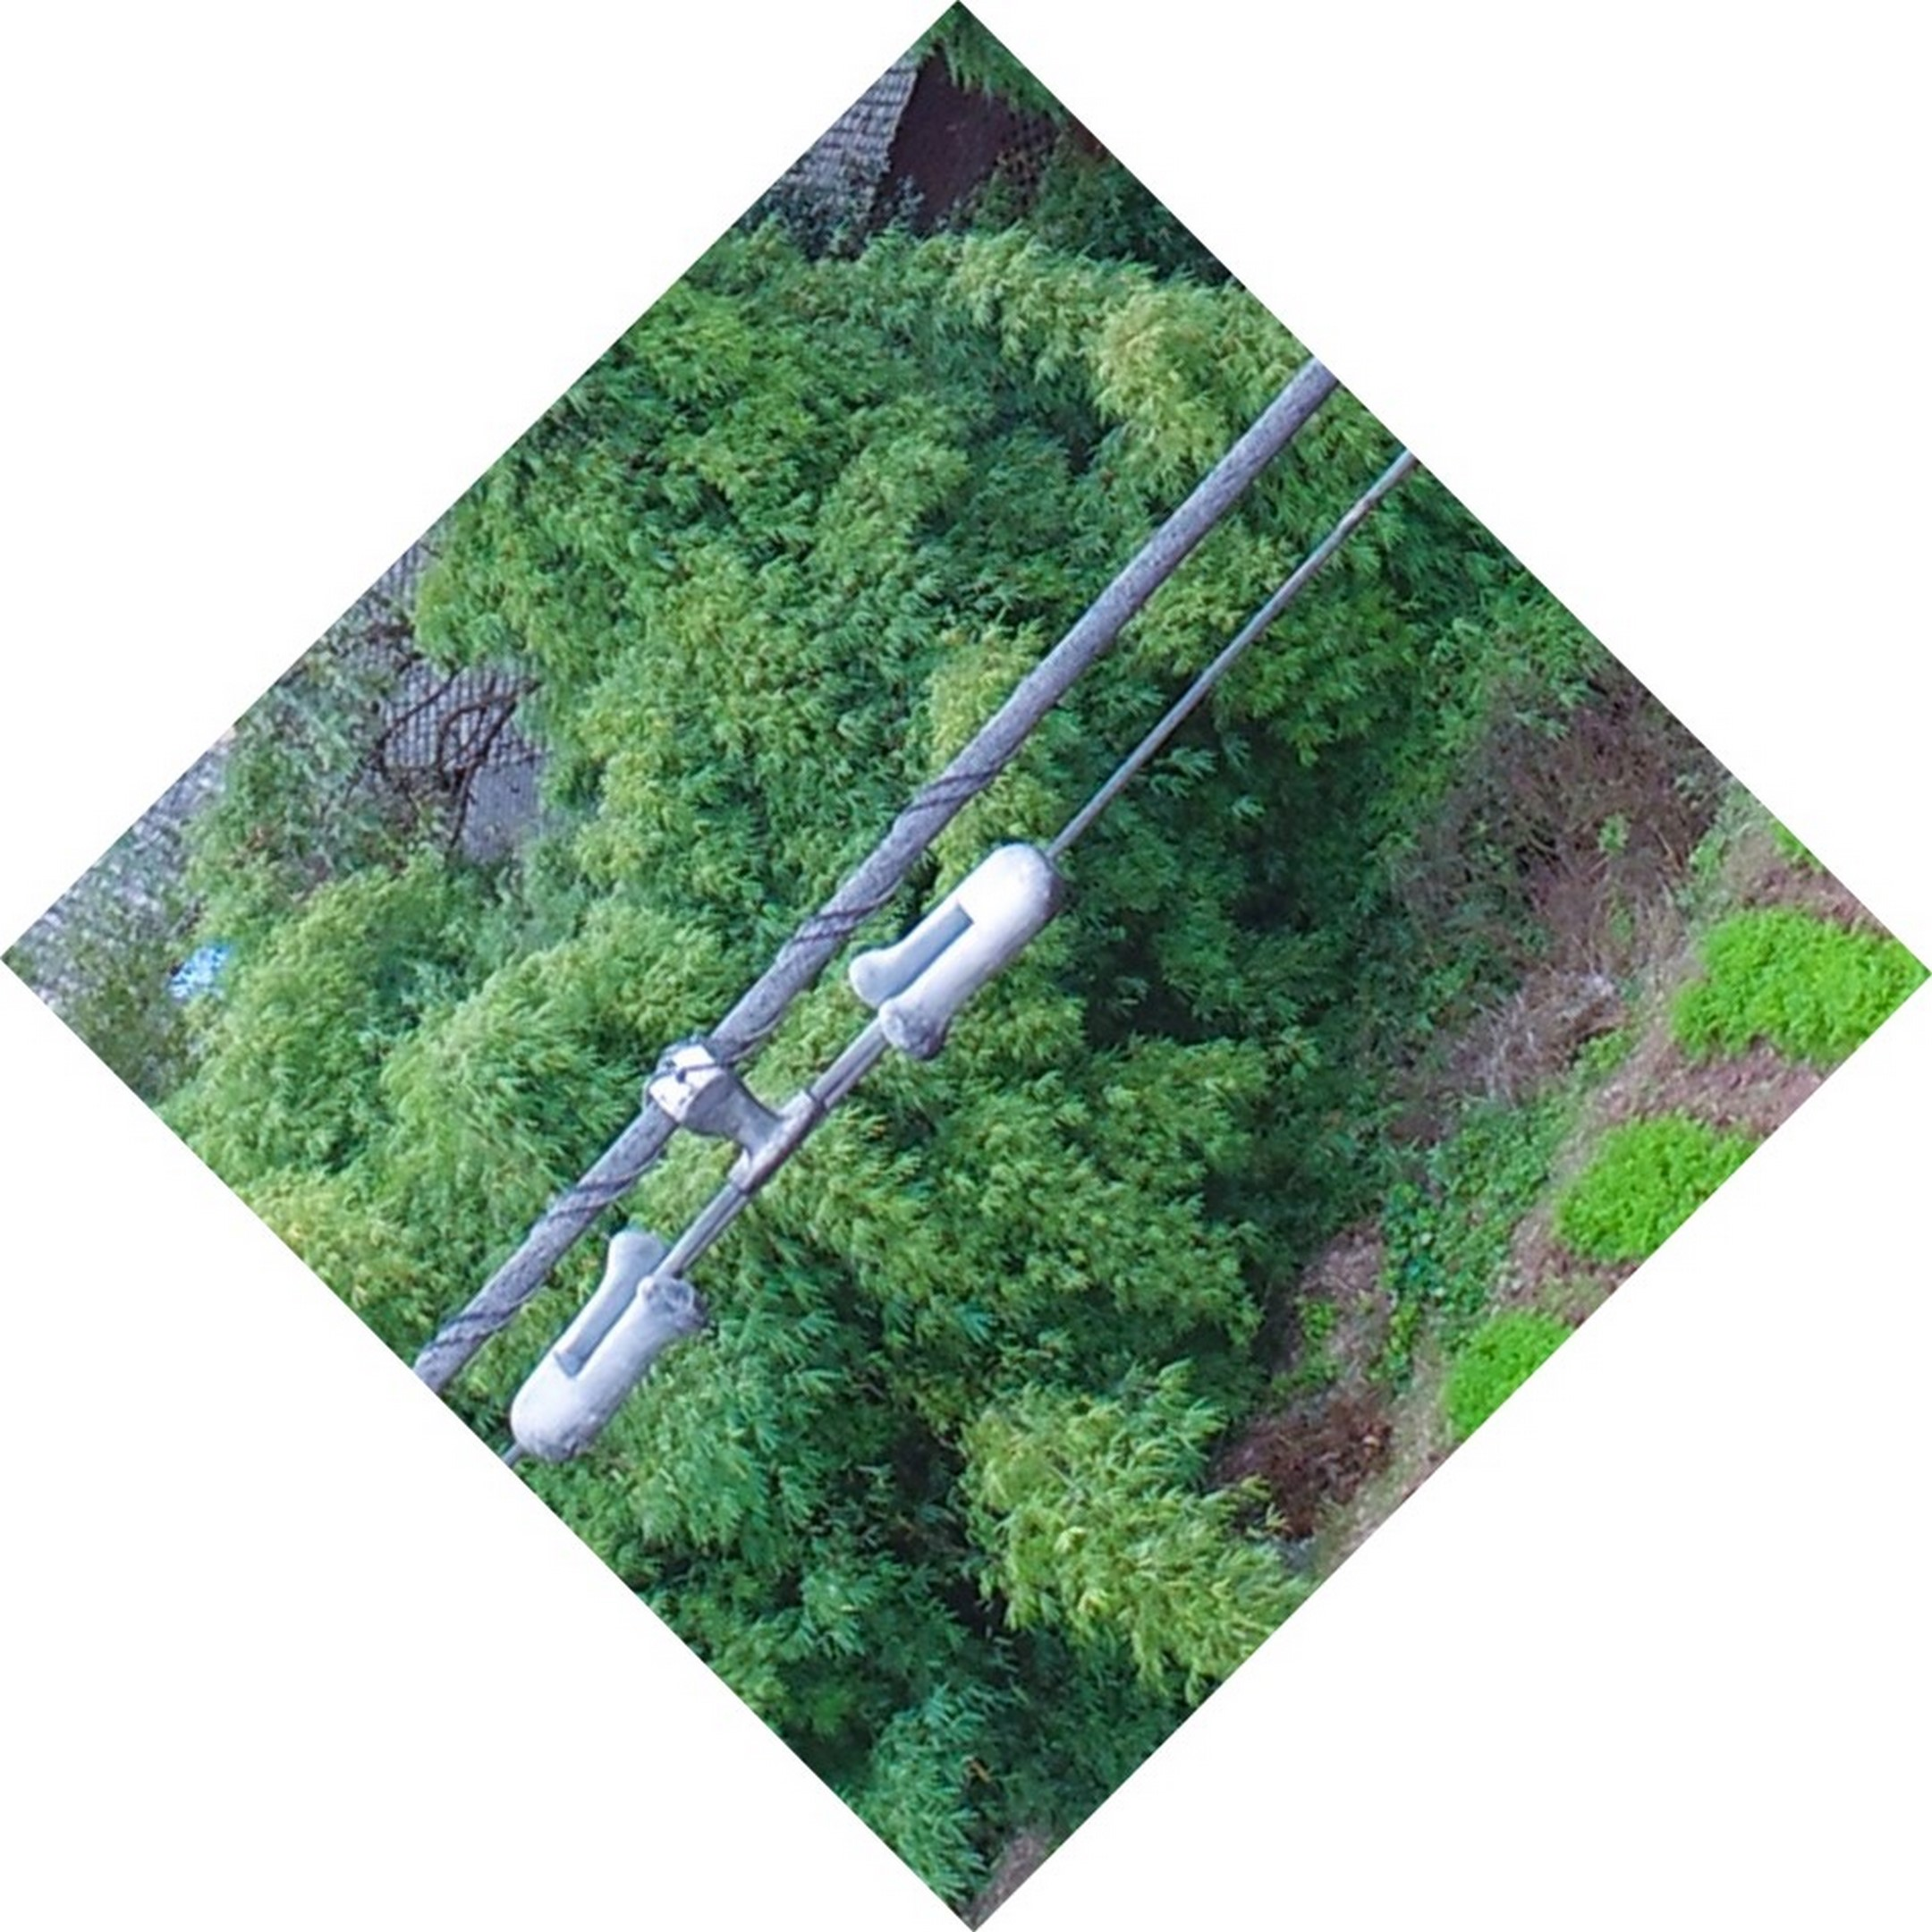Shockproof hammer: (499, 787, 1083, 1483)
